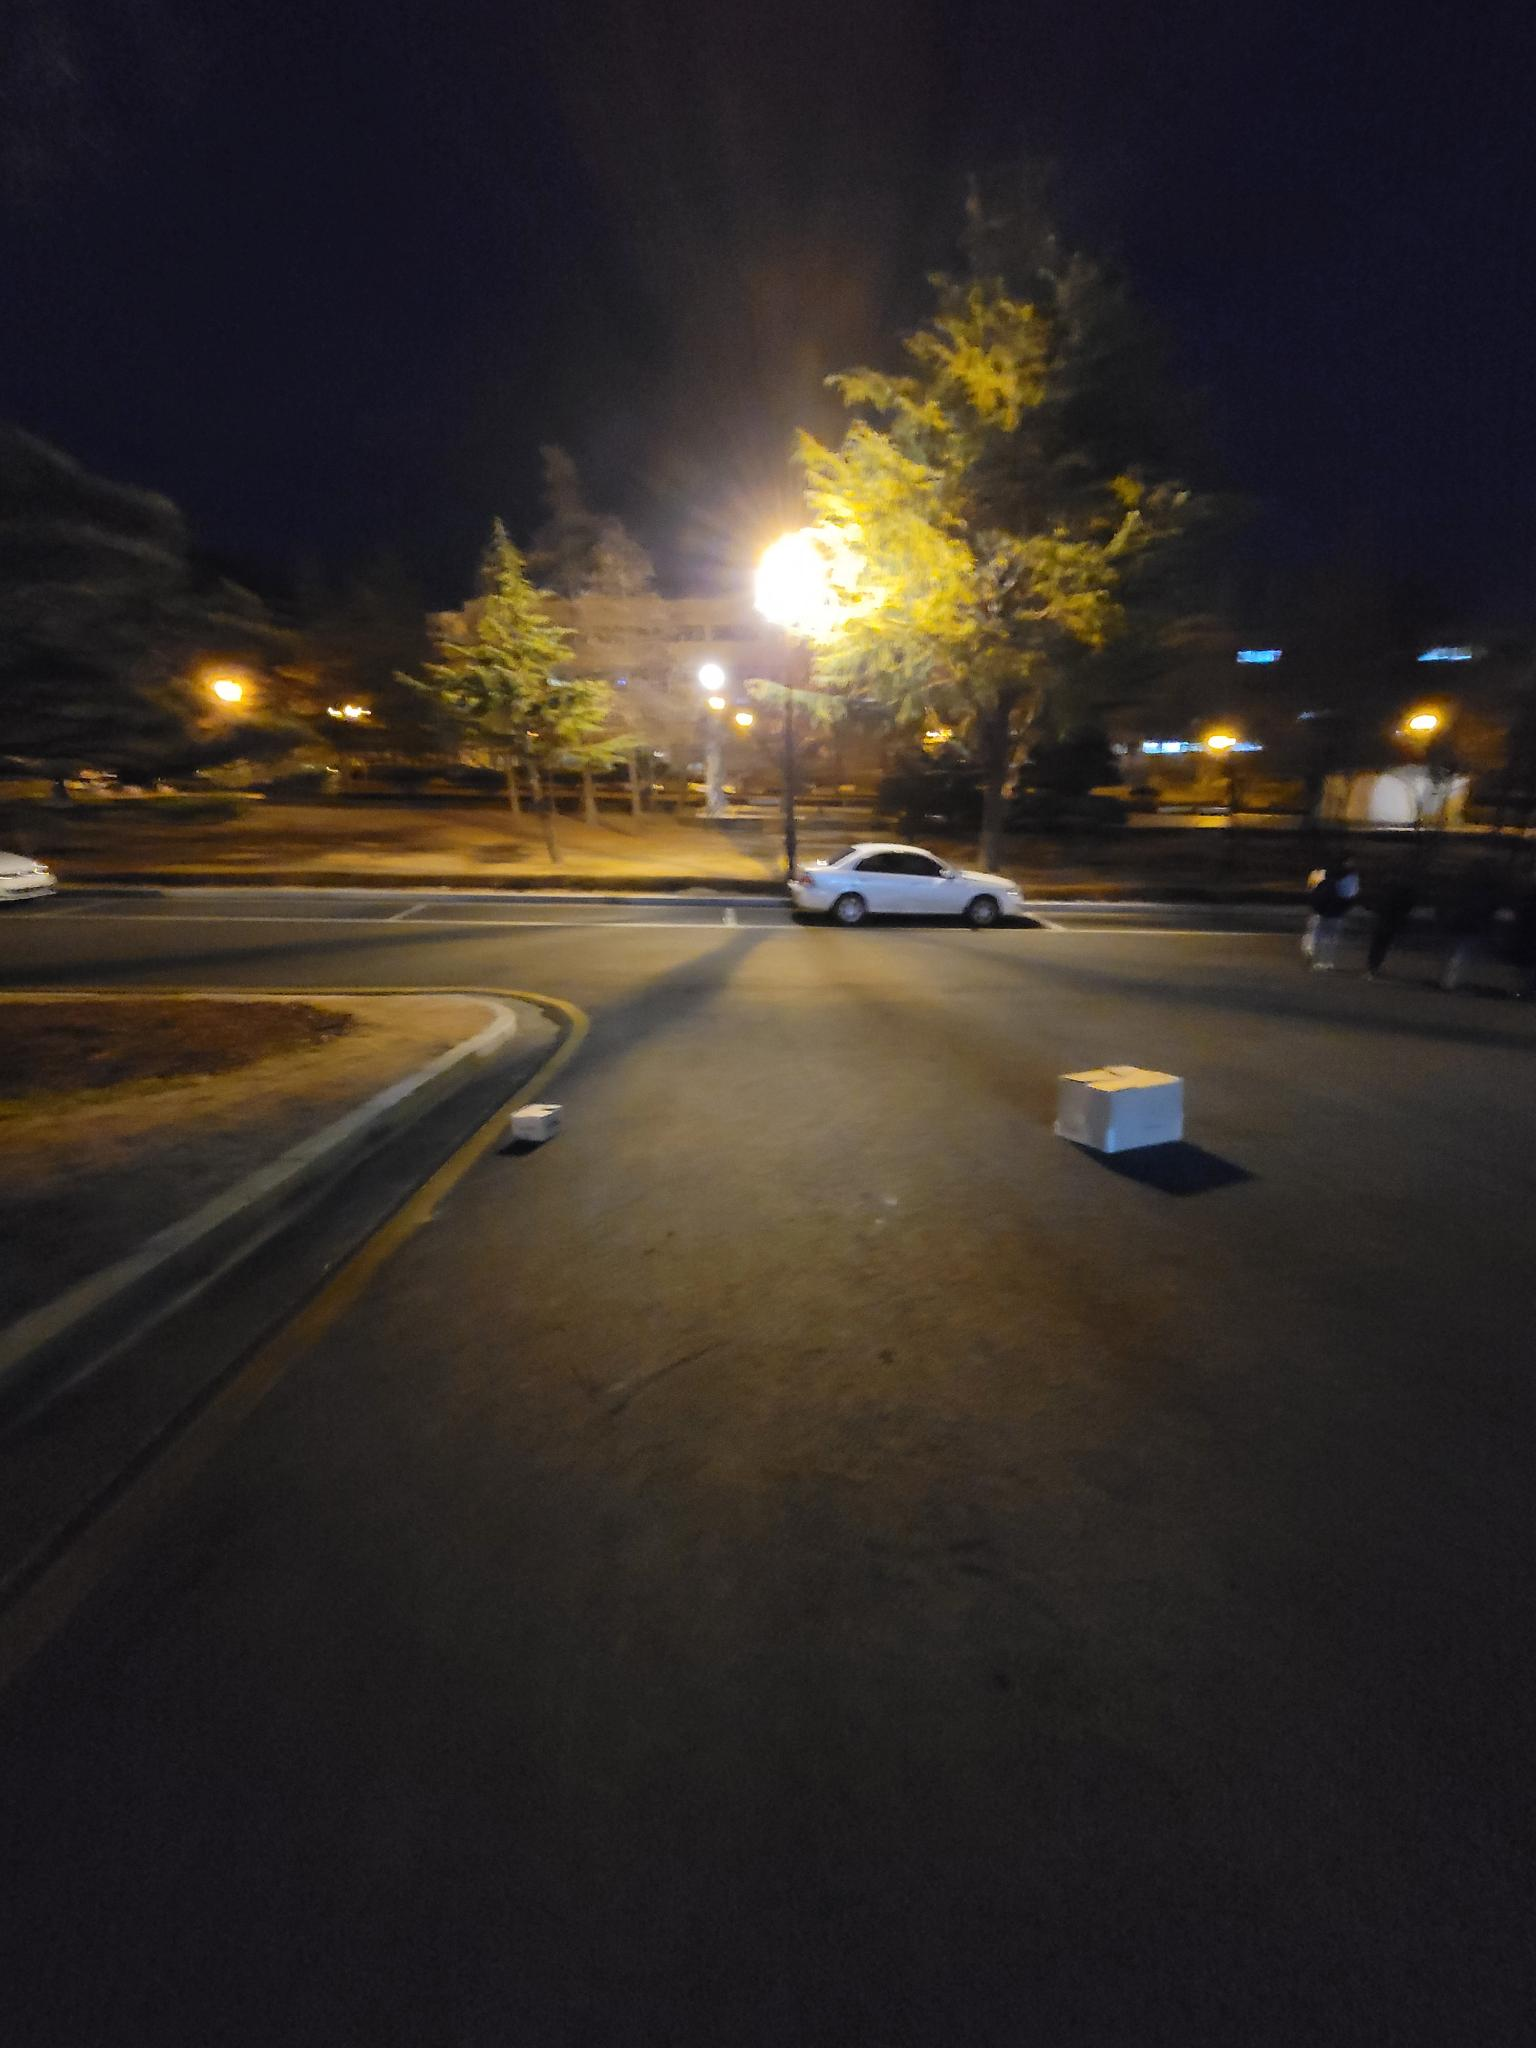Box: (1029, 1058, 1208, 1174), (502, 1093, 573, 1147)
